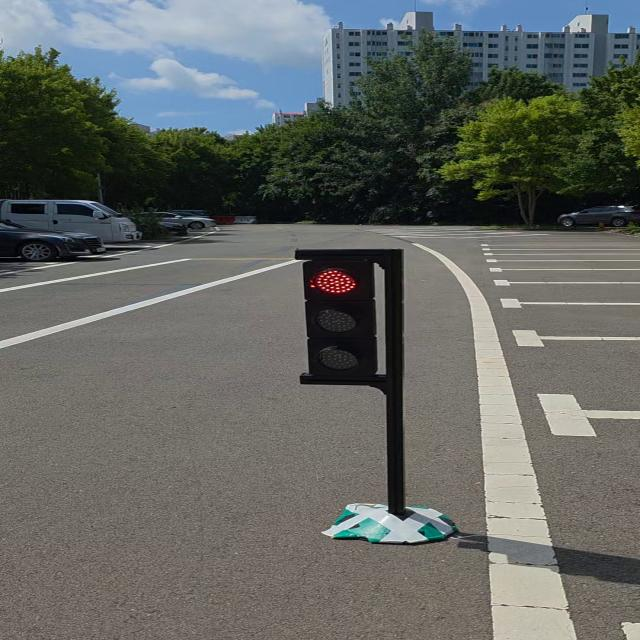red: (296, 255, 390, 386)
